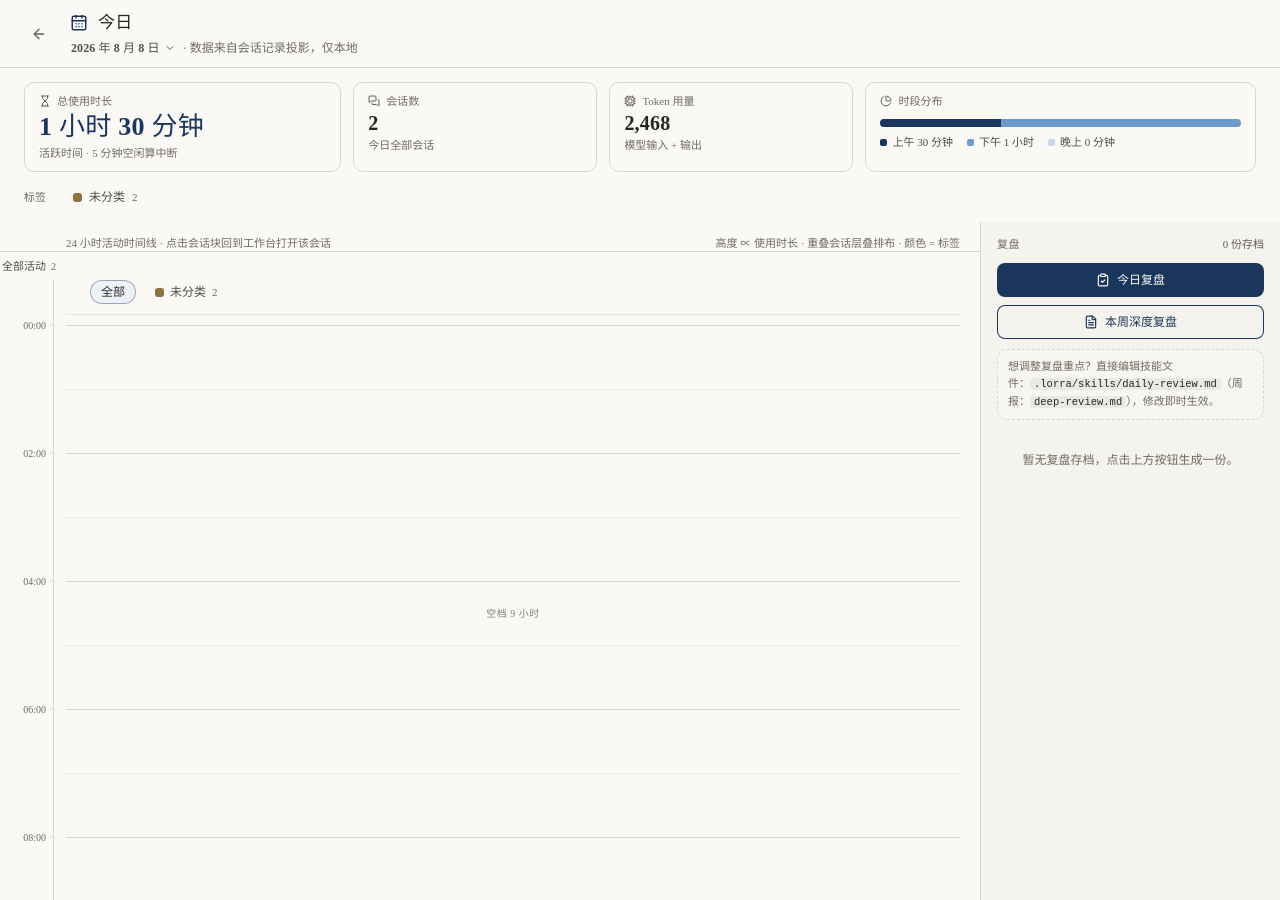
PM 需求②: 日历日期选择 › 日历:点击页头日期打开 popover(7 列月格),选日 → getDayFacts 收到该日期并自动关闭,页头文案跟随
Click the button with test id "today-date-label": [125, 48] box [68, 36, 183, 58]
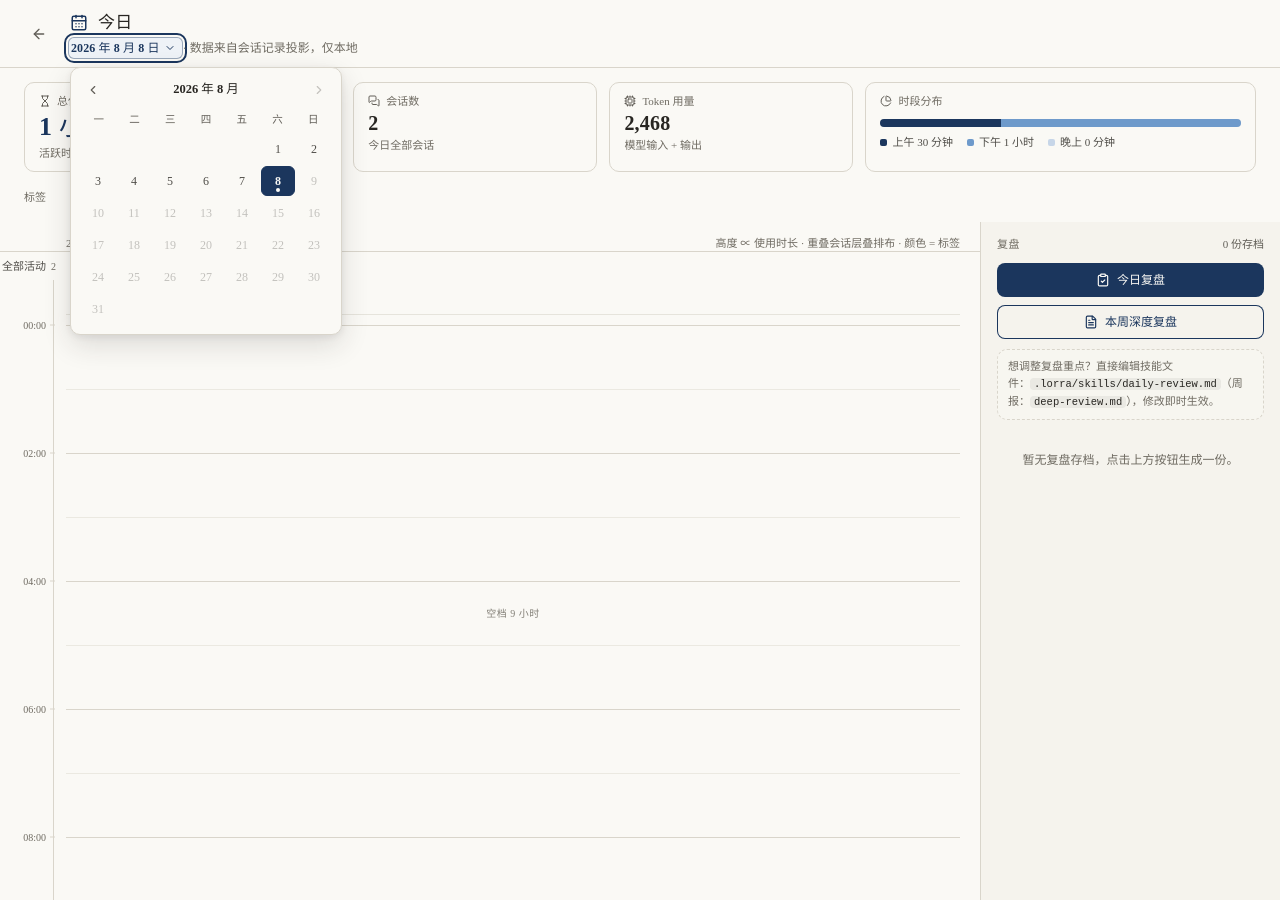
Expected: the dialog with test id "today-calendar" is shown, [70, 66, 342, 334]
Expected: the dialog with test id "today-calendar" shows "2026 年 8 月", [173, 82, 239, 96]
Expected: the text "一" is shown, [94, 114, 104, 125]
Click the button "5": [170, 180] box [153, 166, 187, 196]
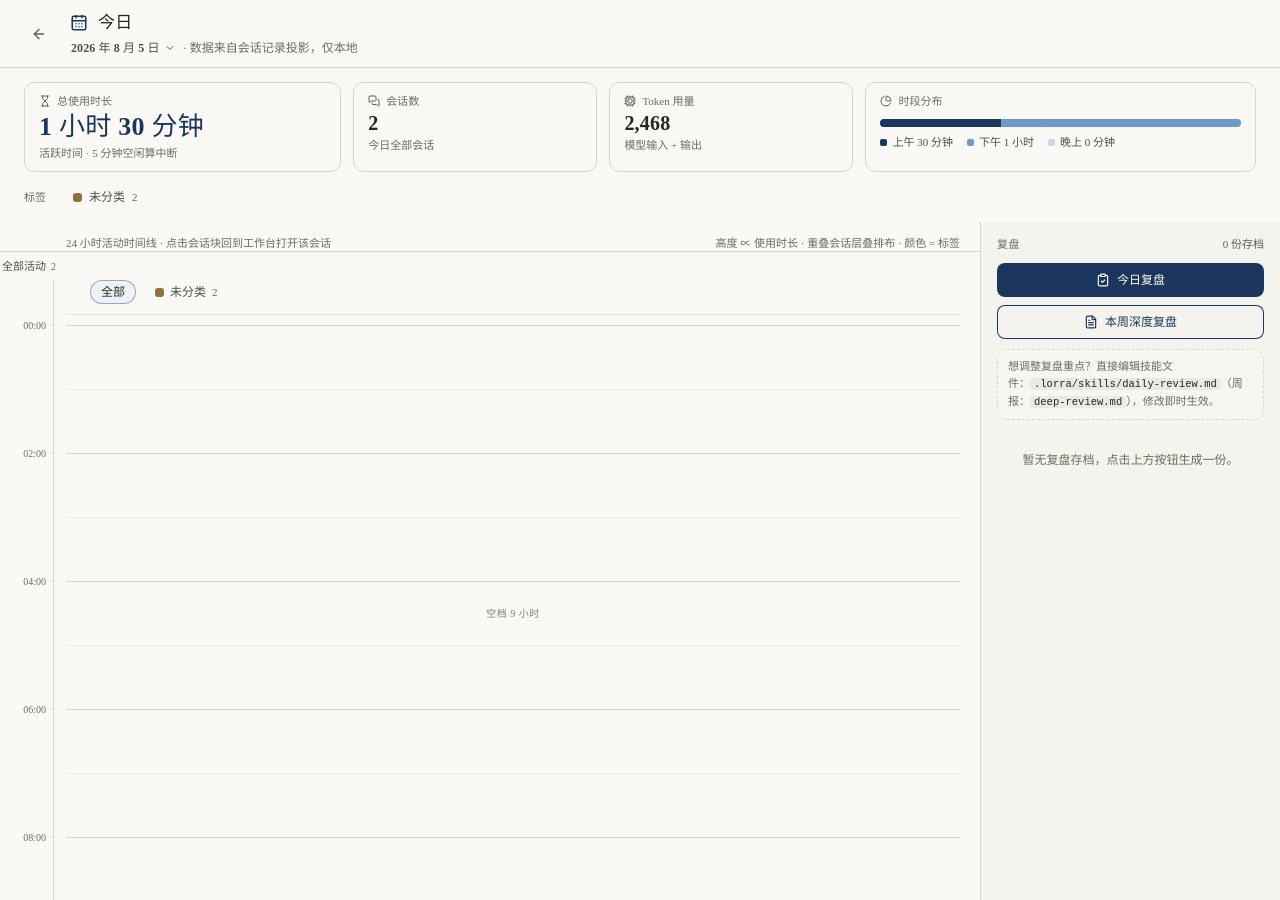
Expected: the dialog with test id "today-calendar" is gone
Expected: the button with test id "today-date-label" reads "2026 年 8 月 5 日", [68, 36, 183, 58]
